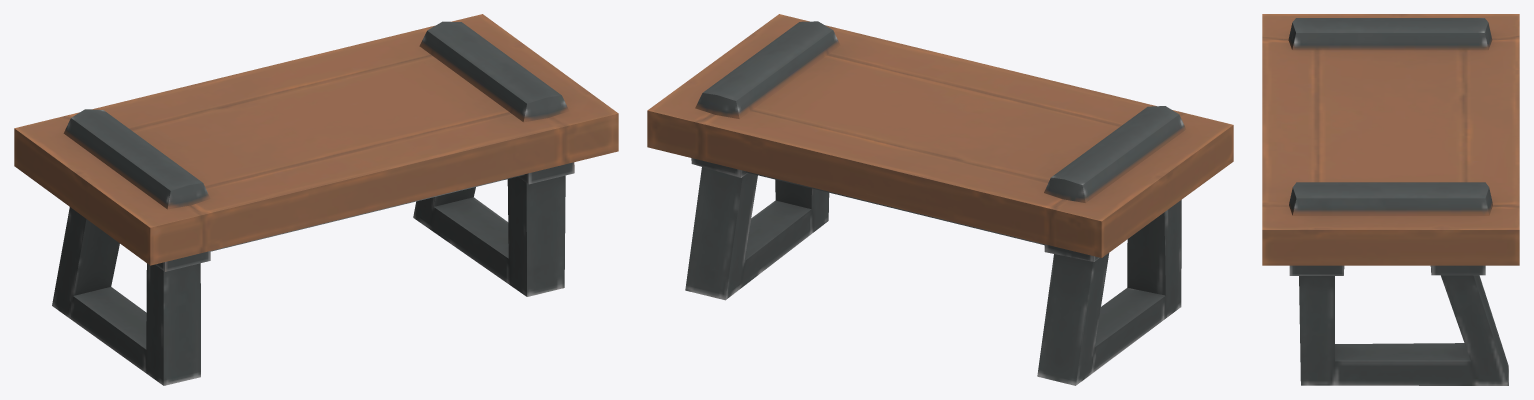
The model's file is Prfb_Indoors_Study.fbx.
3 renders of one model, left to right at view 1: azimuth 30°, elevation 25°; view 2: azimuth 150°, elevation 25°; view 3: azimuth 270°, elevation 25°, orthographic. The views are drawn at different scales.
Parts seen in each view (by area): view 1: Mat_Indoors_Table_02; view 2: Mat_Indoors_Table_02; view 3: Mat_Indoors_Table_02.
Boxes of the visible parts, x1,y1,x2,y2 form: Mat_Indoors_Table_02: (14,14,618,385); Mat_Indoors_Table_02: (647,14,1233,385); Mat_Indoors_Table_02: (1262,14,1519,385).
Size of the model in its own units: 1.81 by 0.7347 by 0.9085.
Materials: 1 (1 with a texture image).
